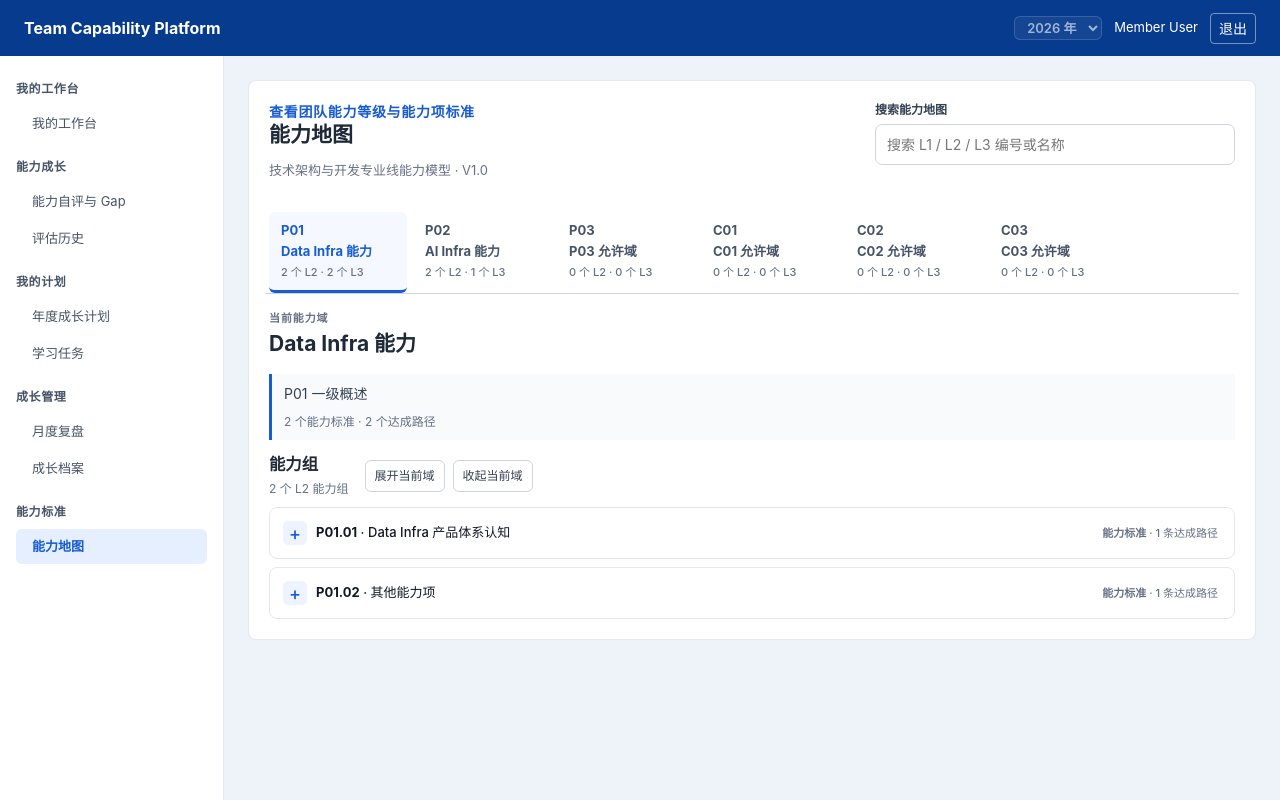
Test: catalog routes › opens the L3 Drawer with its path context and restores focus on close
Expected: the tab "P01 Data Infra 能力 2 个 L2 · 2 个 L3" is shown, [269,212,407,293]
Click the button with test id "l2-toggle-P01.01" at [337, 532], box [275,513,1226,553]
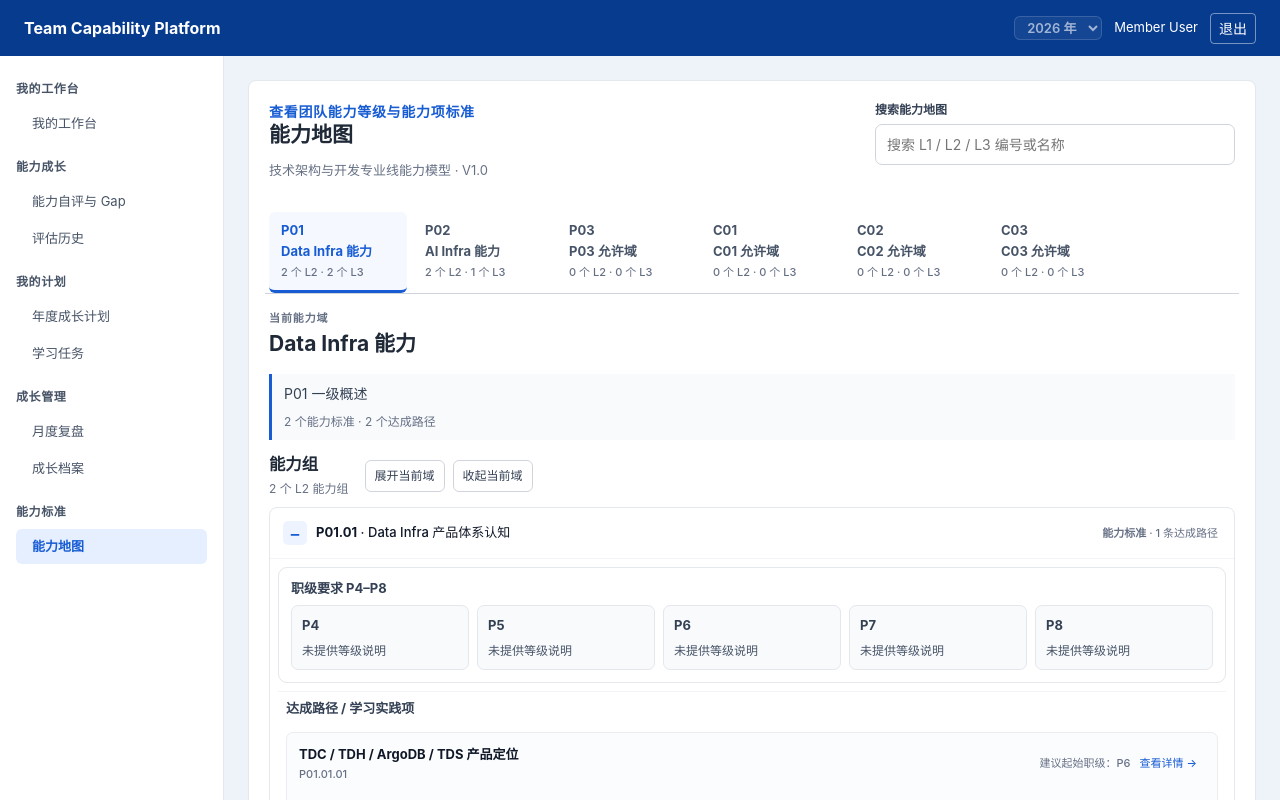
Click the button with test id "l3-row-P01.01.01" at [409, 754], box [291,736,1205,790]
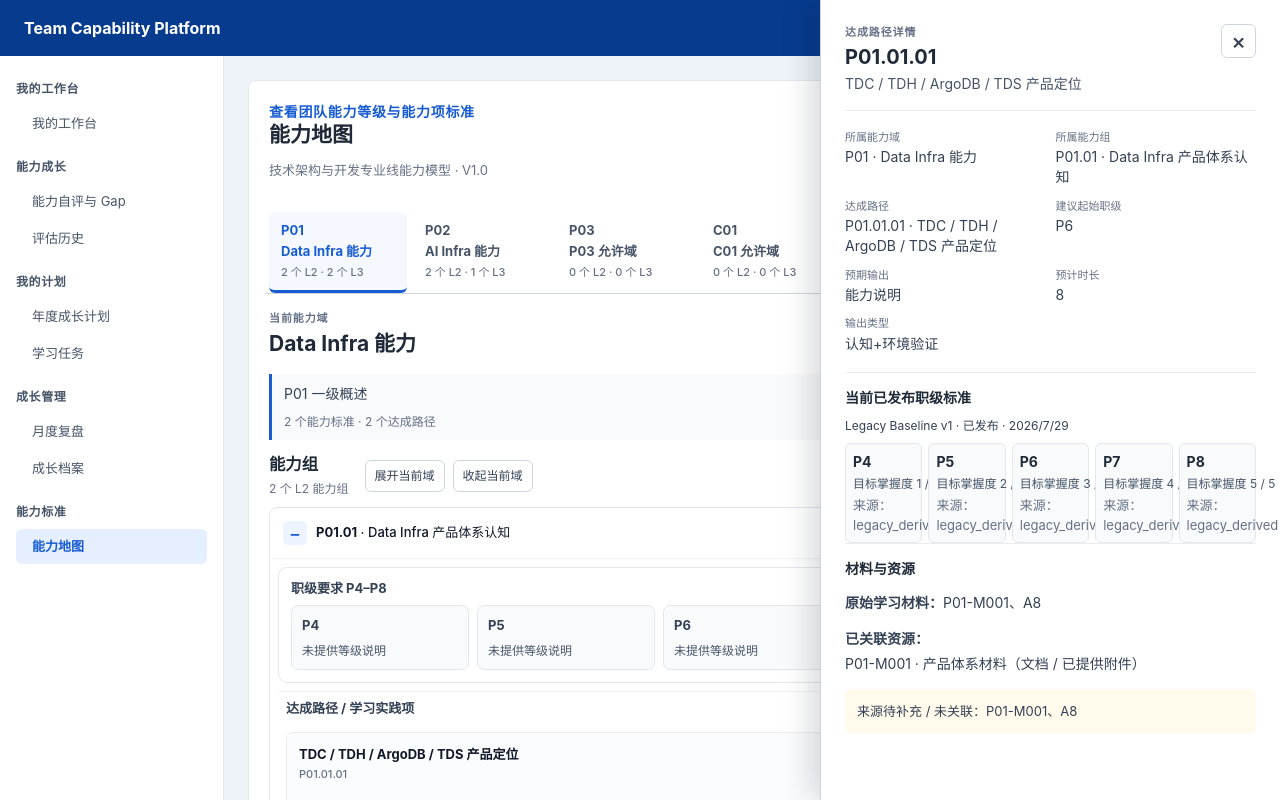
Expected: the text "P01 · Data Infra 能力" is shown, [845,148,977,165]
Expected: the text "P01.01 · Data Infra 产品体系认知" is shown, [1056,147,1256,188]
Expected: the text "P01.01.01 · TDC / TDH / ArgoDB / TDS 产品定位" is shown, [845,217,998,254]
Press Escape in the dialog "P01.01.01", box [820,0,1279,799]
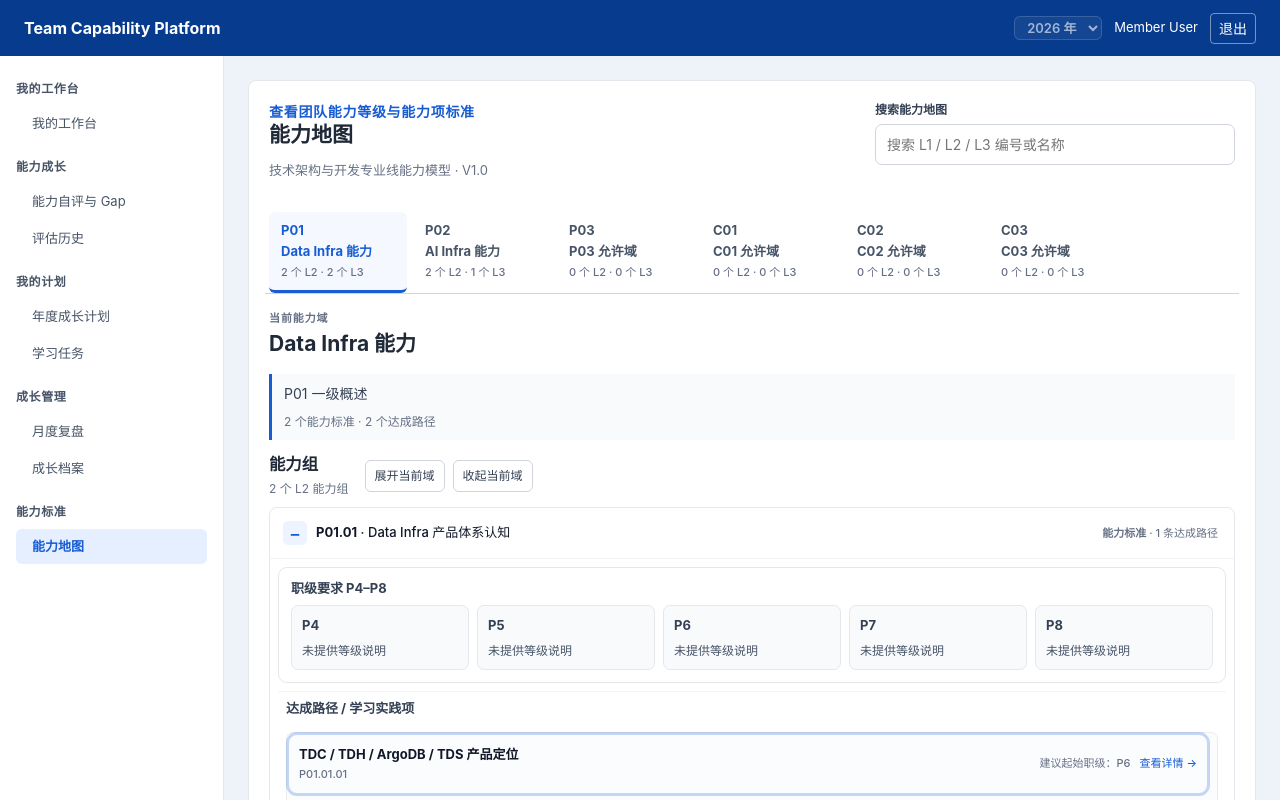
Expected: the dialog is gone
